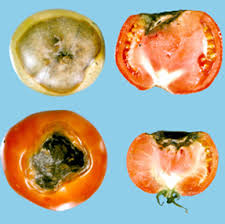blossom_rotw: (14, 16, 103, 87), (136, 20, 213, 92), (27, 121, 102, 194), (147, 127, 209, 163)
